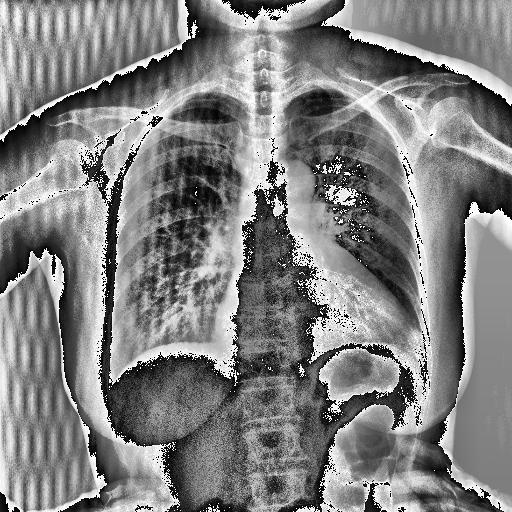10- Pleural effusion: (384, 308, 436, 394)
3- Cardiomegaly: (200, 244, 427, 372), (196, 253, 418, 368), (211, 297, 417, 349)
7- Lung Opacity: (396, 318, 428, 360), (402, 326, 428, 362)
